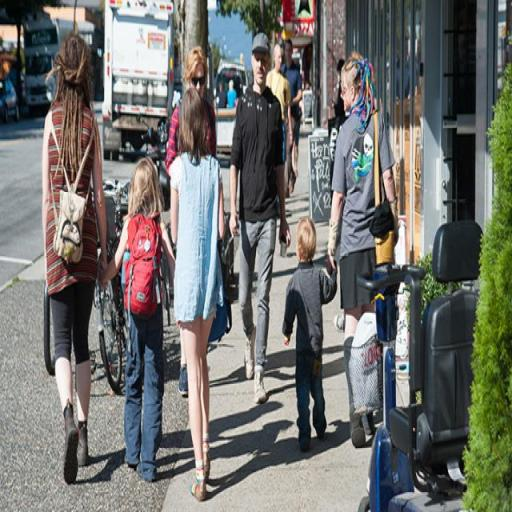person: (42, 35, 111, 486), (328, 56, 401, 448), (170, 91, 224, 500), (111, 151, 176, 486), (231, 33, 286, 404), (168, 45, 219, 391), (284, 213, 343, 451), (267, 40, 294, 221), (284, 43, 305, 176)
